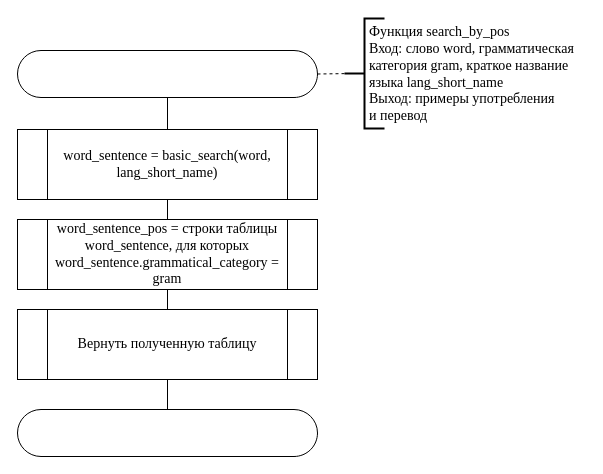
Some shapes in this 603 by 474 pixel diagram are drawn without their labels. Each missing label, with the centre of its shape:
"Конец" goes at point (167, 432).
"Начало" goes at point (167, 74).
